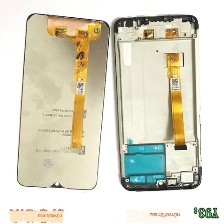phone: (13, 10, 113, 193), (109, 12, 205, 194)
